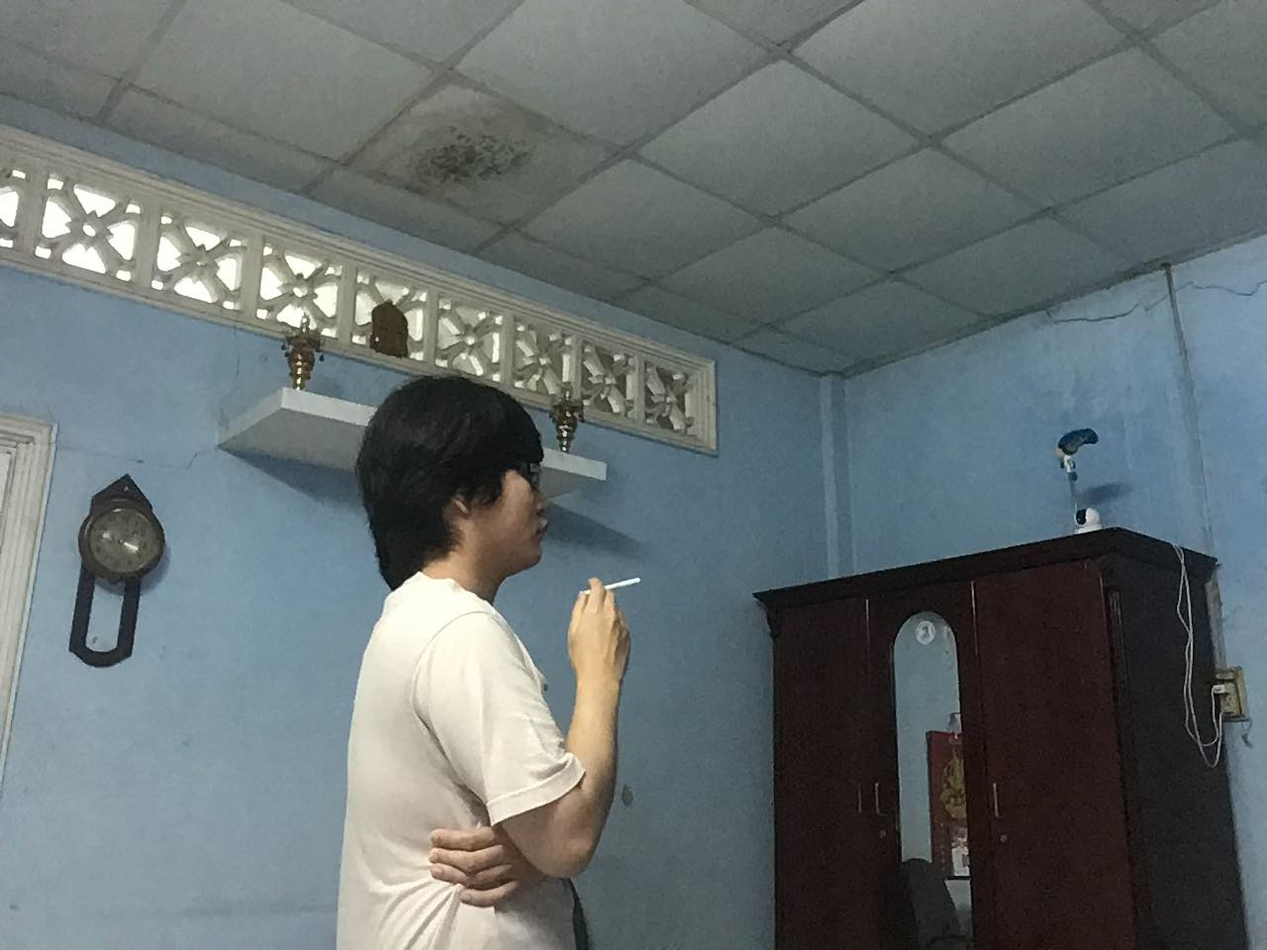cigarette: (602, 573, 645, 593)
person: (333, 365, 634, 950)
